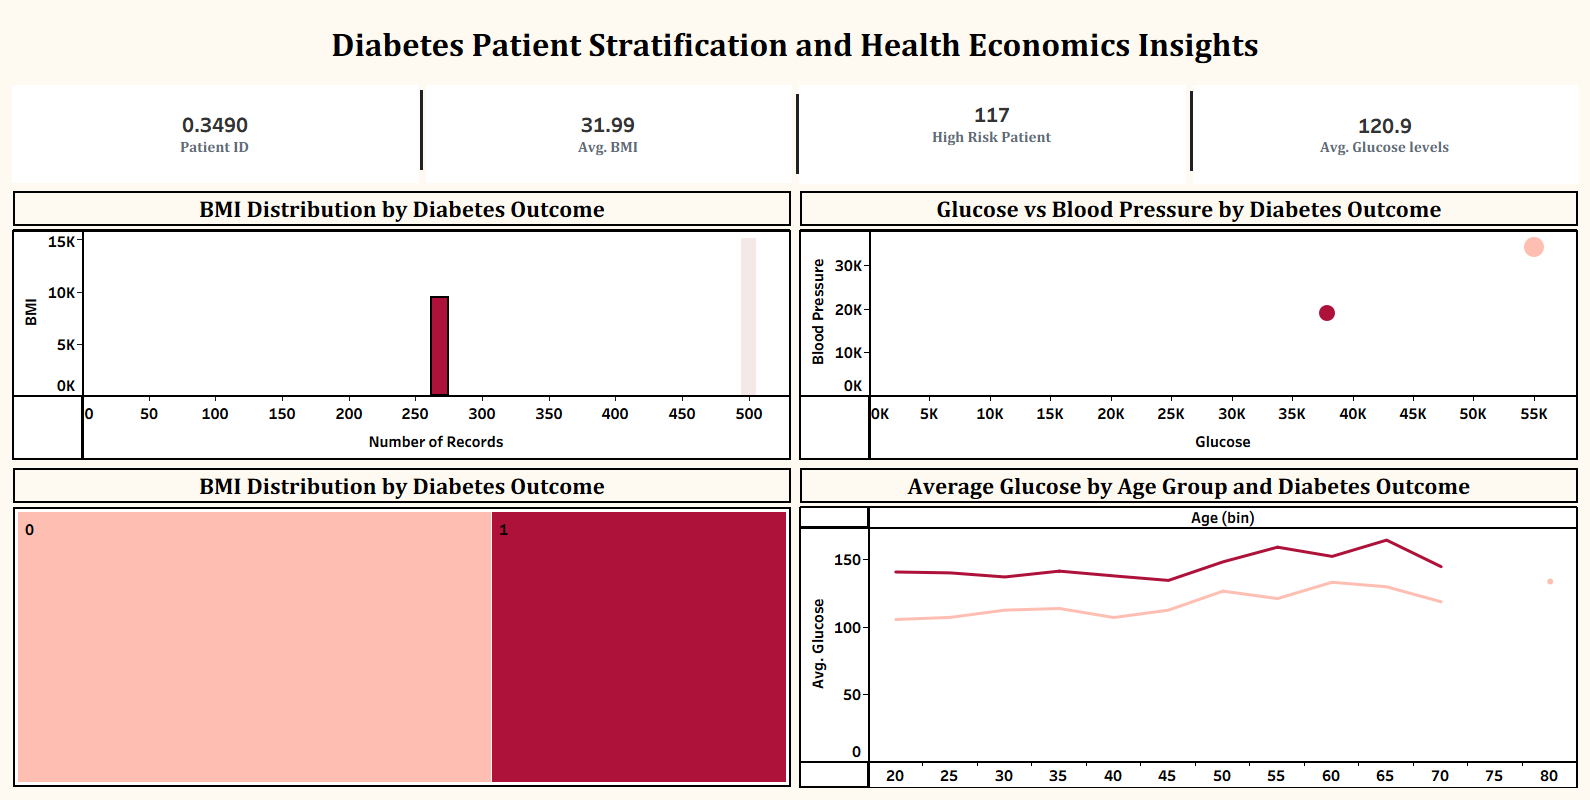

This screenshot's page, from the dashboard's own definition file:
{"tool":"tableau","page":{"name":"Dashboard 1","canvas":[1590,800],"ordinal":0},"visuals":[{"type":"text","box":[8,8,1574,73.3]},{"type":"worksheet","title":"Patient ID","mark":"Automatic","box":[8,81.3,414,105.3]},{"type":"worksheet","title":"Avg. BMI","mark":"Automatic","box":[422,81.3,373,105.3]},{"type":"worksheet","title":"High-risk patient counts","mark":"Automatic","box":[795,81.3,393.5,105.9]},{"type":"worksheet","title":"Average Glucose levels","mark":"Automatic","box":[1188.5,81.3,393.5,105.9]},{"type":"image","param":"C:/Users/HP/Pictures/Screenshots/Screenshot 2025-08-31 211059.png","box":[420,90,3,80]},{"type":"image","param":"C:/Users/HP/AppData/Local/Temp/TableauTemp/0cog7sv15h4mjm115tu1b1o8sb21/Sheets1/","box":[1190,91,3,80]},{"type":"image","param":"C:/Users/HP/AppData/Local/Temp/TableauTemp/0cog7sv15h4mjm115tu1b1o8sb21/Sheets1/","box":[796,94,3,80]},{"type":"worksheet","title":"BMI Distribution by Outcome","mark":"Bar","rows":["BMI"],"cols":["Calculation_1410471158800482305"],"box":[8,186.6,787,277.4]},{"type":"worksheet","title":"Glucose vs Blood Pressure by Diabetes Outcome","mark":"Circle","rows":["BloodPressure"],"cols":["Glucose"],"box":[795,187.1,787,276.9]},{"type":"worksheet","title":"BMI Distribution by Diabetes Outcome","mark":"Automatic","box":[8,464,787,328]},{"type":"worksheet","title":"Average Glucose by Age Group and Diabetes Outcome","mark":"Line","rows":["Glucose"],"cols":["Age (bin)"],"box":[795,464,787,328]}]}

Visuals, with their boxes in screenshot pixels (x1, y1, x2, y2), scaled from the page's 1590x800 canvas onto the 1590x800 screenshot:
text: <box>8,8,1582,81</box>
"Patient ID" worksheet: <box>8,81,422,187</box>
"Avg. BMI" worksheet: <box>422,81,795,187</box>
"High-risk patient counts" worksheet: <box>795,81,1188,187</box>
"Average Glucose levels" worksheet: <box>1188,81,1582,187</box>
image: <box>420,90,423,170</box>
image: <box>1190,91,1193,171</box>
image: <box>796,94,799,174</box>
"BMI Distribution by Outcome" worksheet (Bar marks): <box>8,187,795,464</box>
"Glucose vs Blood Pressure by Diabetes Outcome" worksheet (Circle marks): <box>795,187,1582,464</box>
"BMI Distribution by Diabetes Outcome" worksheet: <box>8,464,795,792</box>
"Average Glucose by Age Group and Diabetes Outcome" worksheet (Line marks): <box>795,464,1582,792</box>
